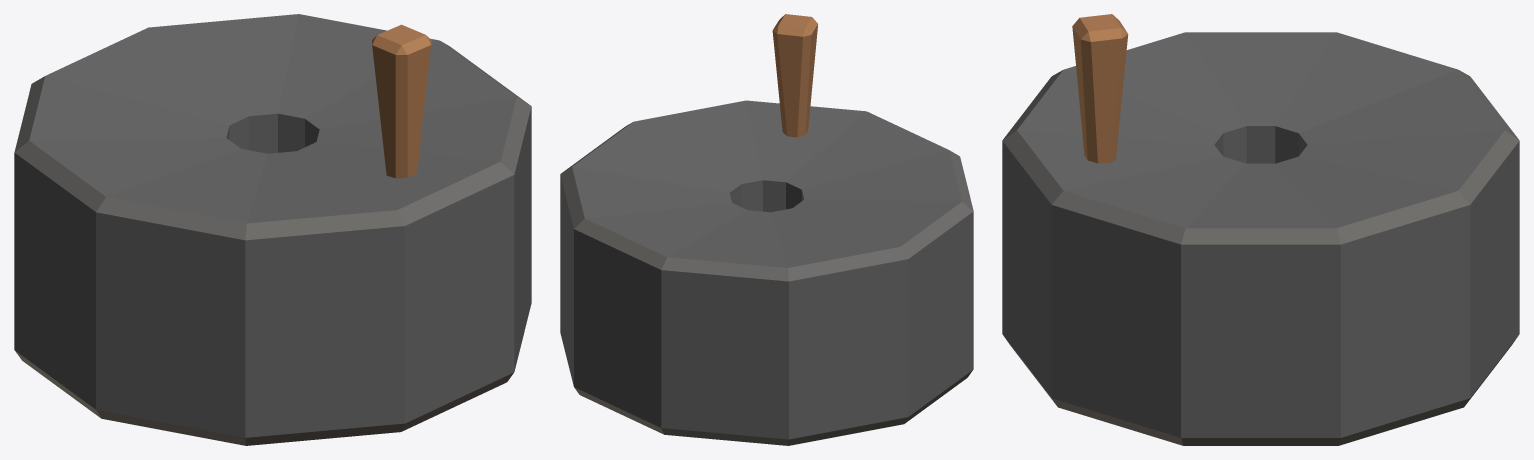
File: millstone_up.fbx
The picture shows the model from 3 angles, left to right: view 1: azimuth 30°, elevation 25°; view 2: azimuth 150°, elevation 25°; view 3: azimuth 270°, elevation 25°; orthographic projection. The views are drawn at different scales.
Visible parts, largest first — view 1: millstone_up; view 2: millstone_up; view 3: millstone_up.
Part boxes in pixels (x1,y1,x2,y2): millstone_up: [14, 14, 531, 445]; millstone_up: [560, 14, 973, 445]; millstone_up: [1002, 14, 1519, 445].
Bounding box in the file's own units: 53.55 × 41.37 × 56.3.
